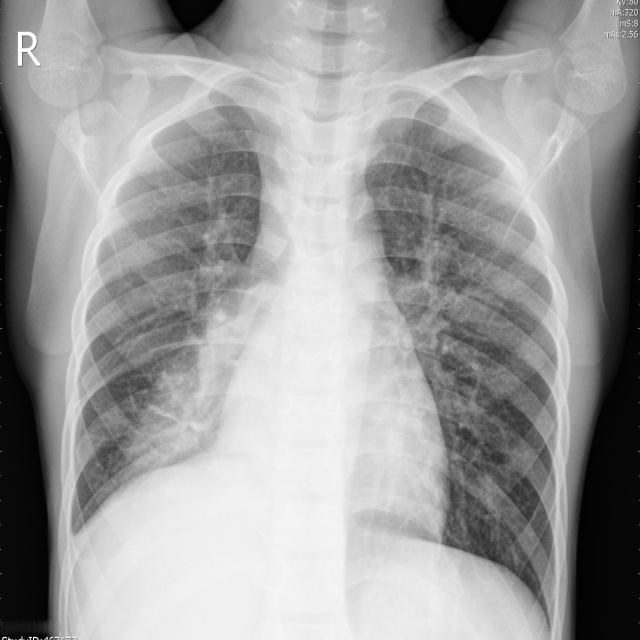low-pneumonia: (135, 182, 254, 451), (383, 238, 492, 456)
